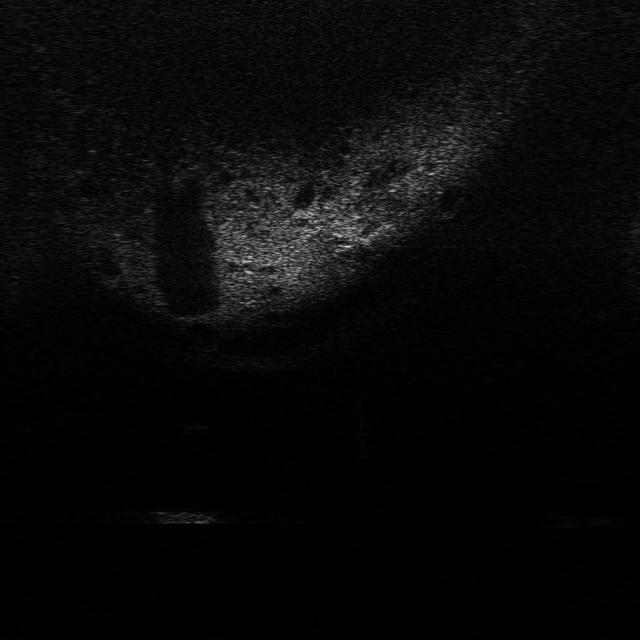cube: (146, 504, 228, 530)
